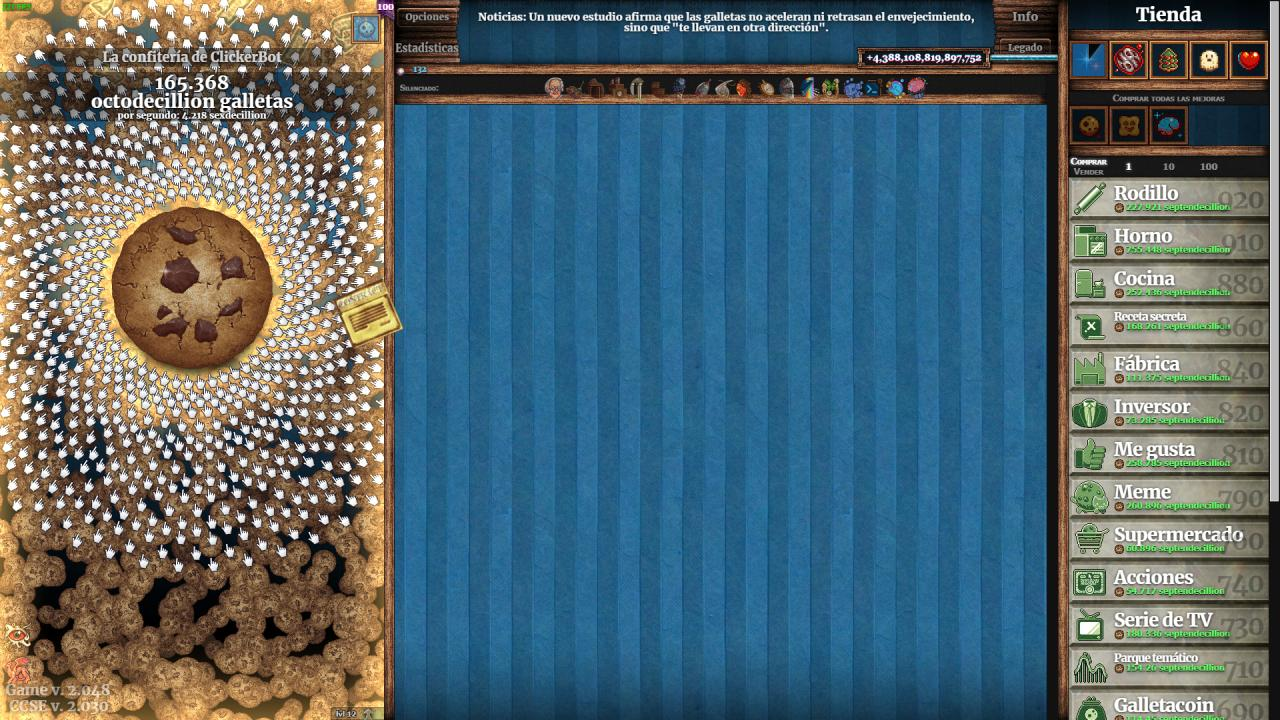GoldenCartridge: (334, 278, 404, 350)
